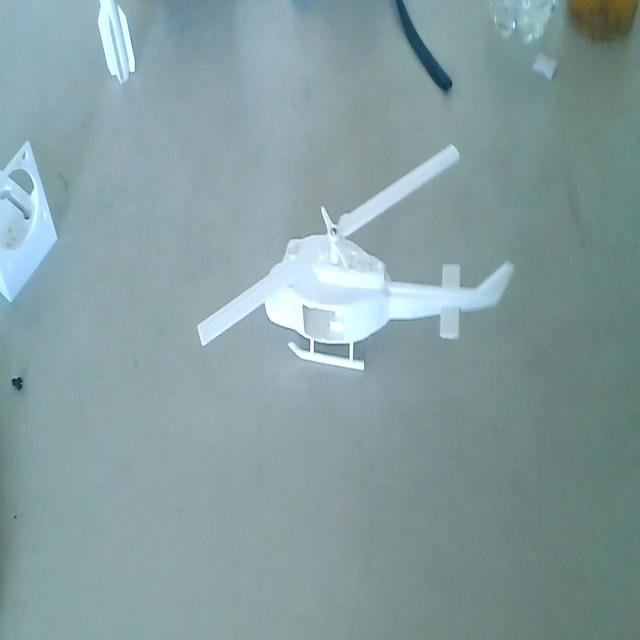Helicopter: (189, 137, 515, 390)
